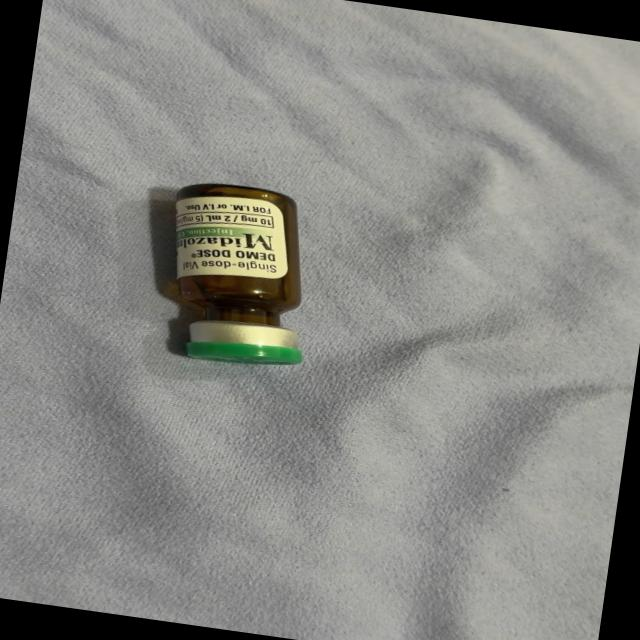midazolm: (154, 180, 322, 371)
